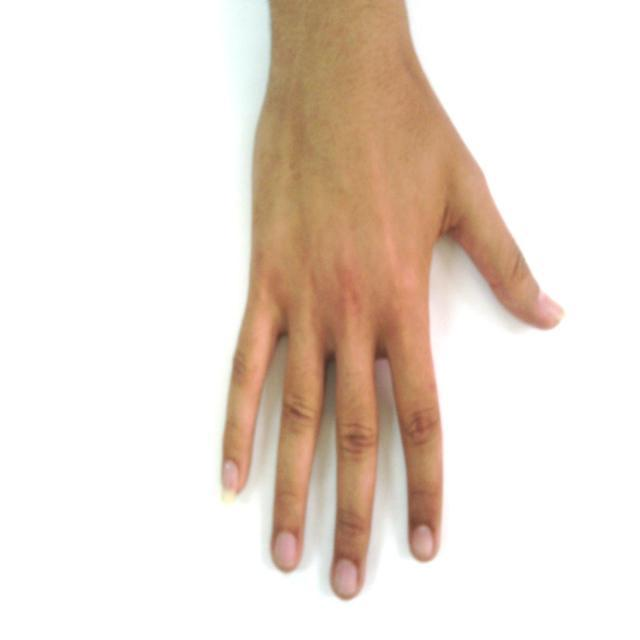Fingernail: (335, 560, 358, 598), (275, 532, 297, 570), (222, 460, 239, 504), (412, 526, 433, 559), (538, 293, 565, 318)
